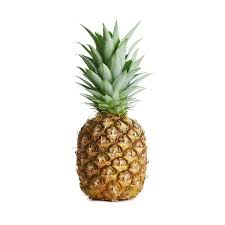pineapple: (75, 110, 150, 203)
